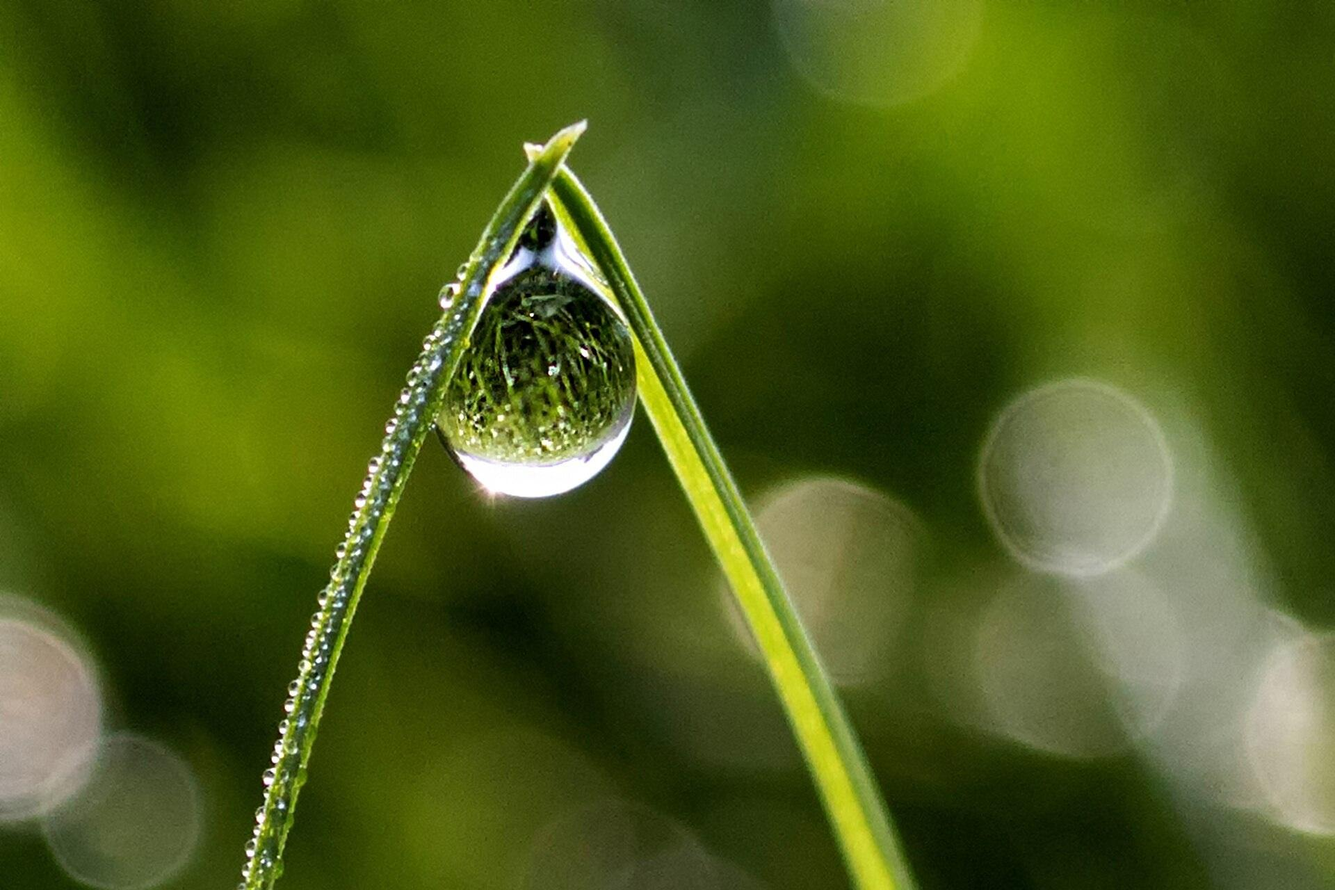water drop: (433, 264, 641, 498)
